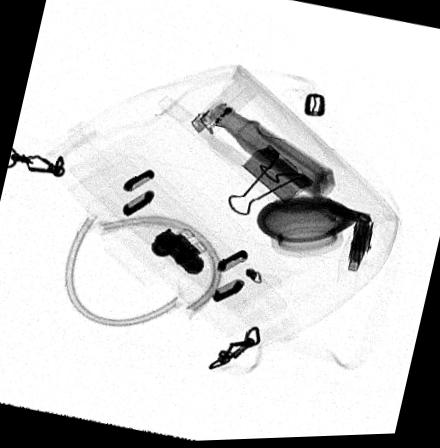Lighter: (189, 76, 259, 143)
